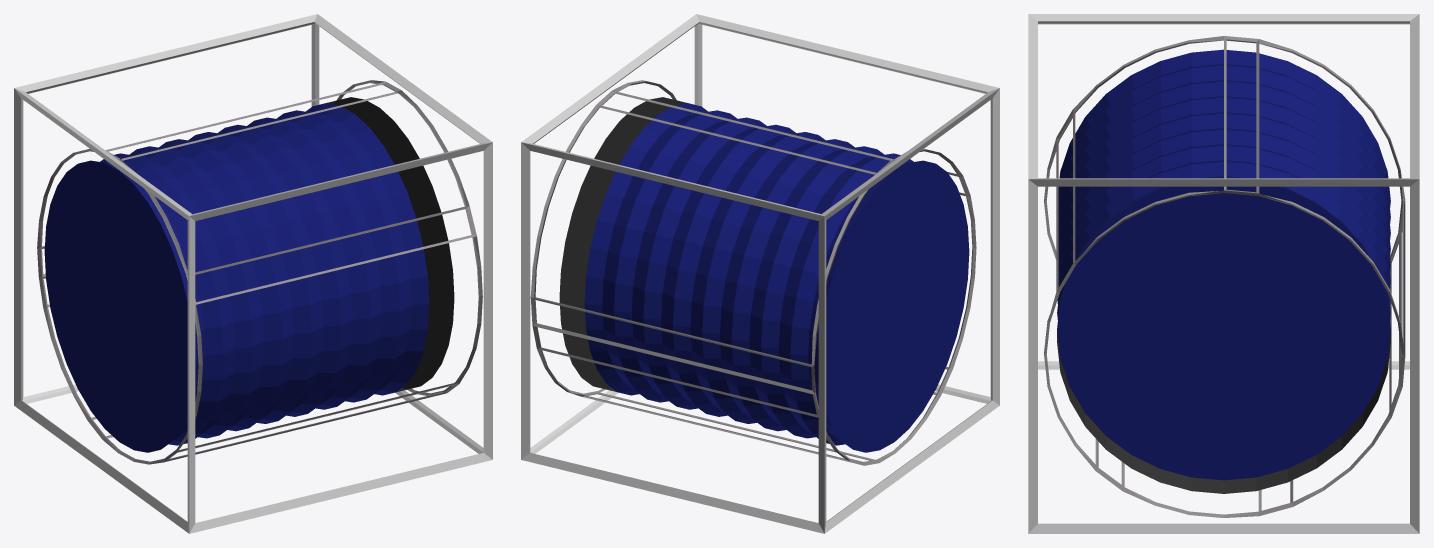
Rendered from assembly_pump_part_blue.dae.
The picture shows the model from 3 angles, left to right: view 1: azimuth 30°, elevation 25°; view 2: azimuth 150°, elevation 25°; view 3: azimuth 270°, elevation 25°; orthographic projection. The views are drawn at different scales.
Visible parts, largest first — view 1: cylinderHead.001; view 2: cylinderHead.001; view 3: cylinderHead.001.
Part boxes in pixels (left/top/right/bottom): cylinderHead.001: left=14, top=14, right=492, bottom=533; cylinderHead.001: left=521, top=14, right=999, bottom=533; cylinderHead.001: left=1028, top=14, right=1419, bottom=533.
Size of the model in its own units: 0.1262 by 0.1262 by 0.1262.
